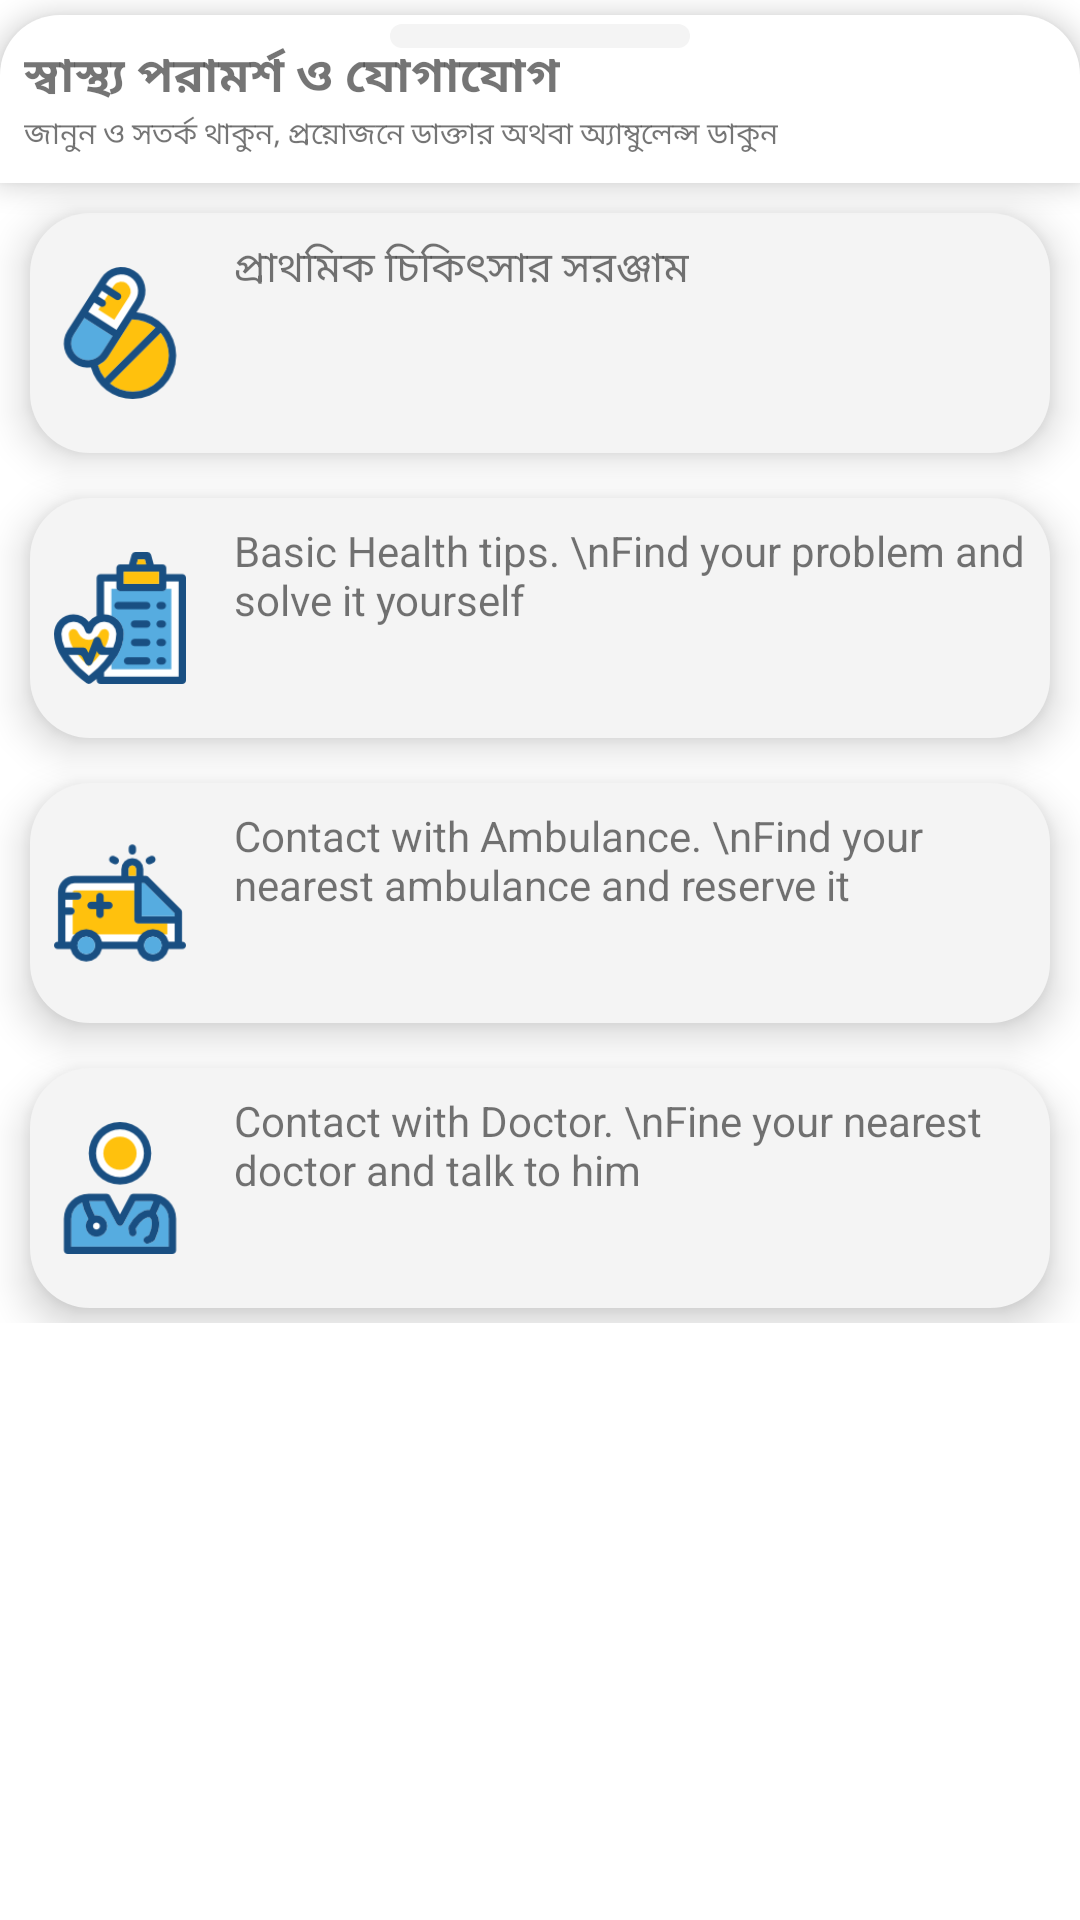

Where icons sit on this 1080 × 1920 app screen, as [left=x1, top=y1, right=x2, bottom=y2]:
first aid: [left=63, top=267, right=177, bottom=399]
